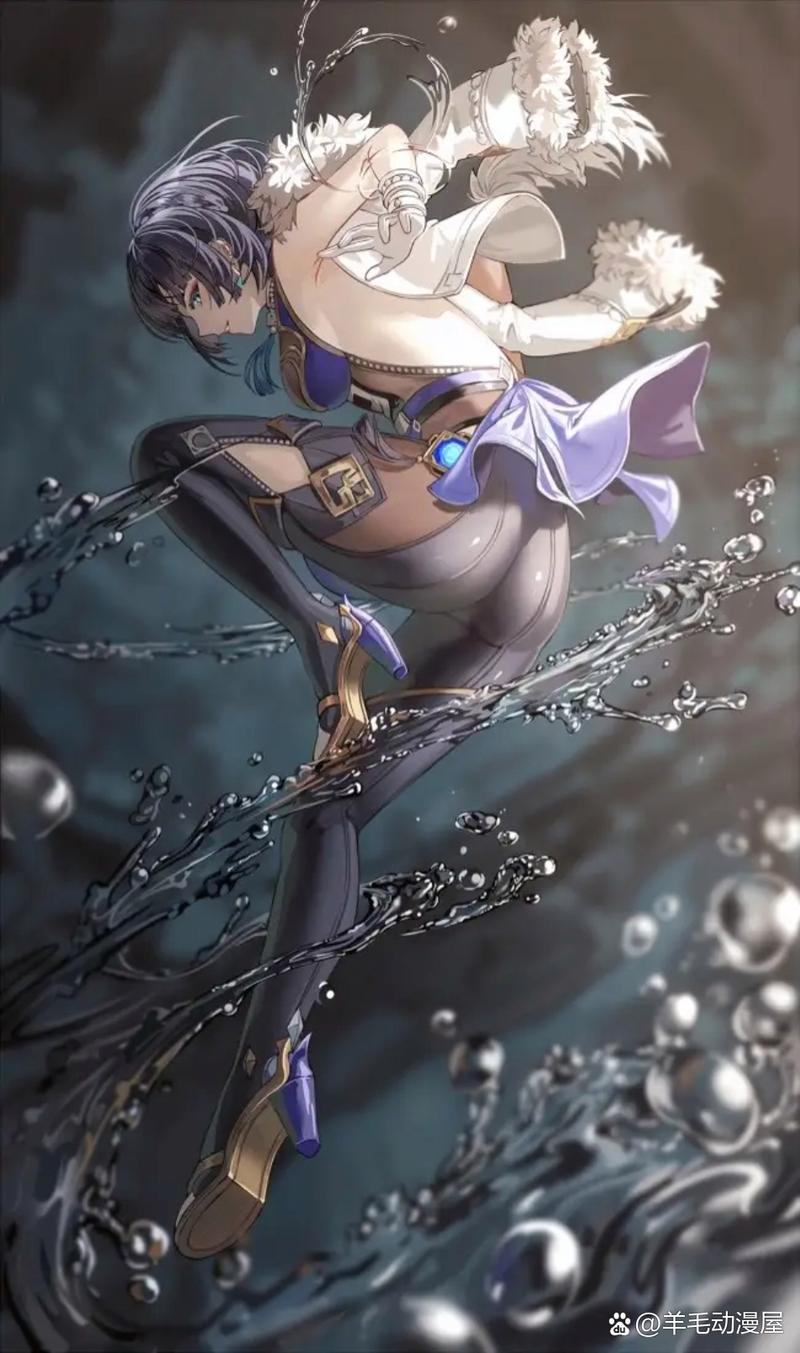夜兰: (89, 122, 573, 1260)
